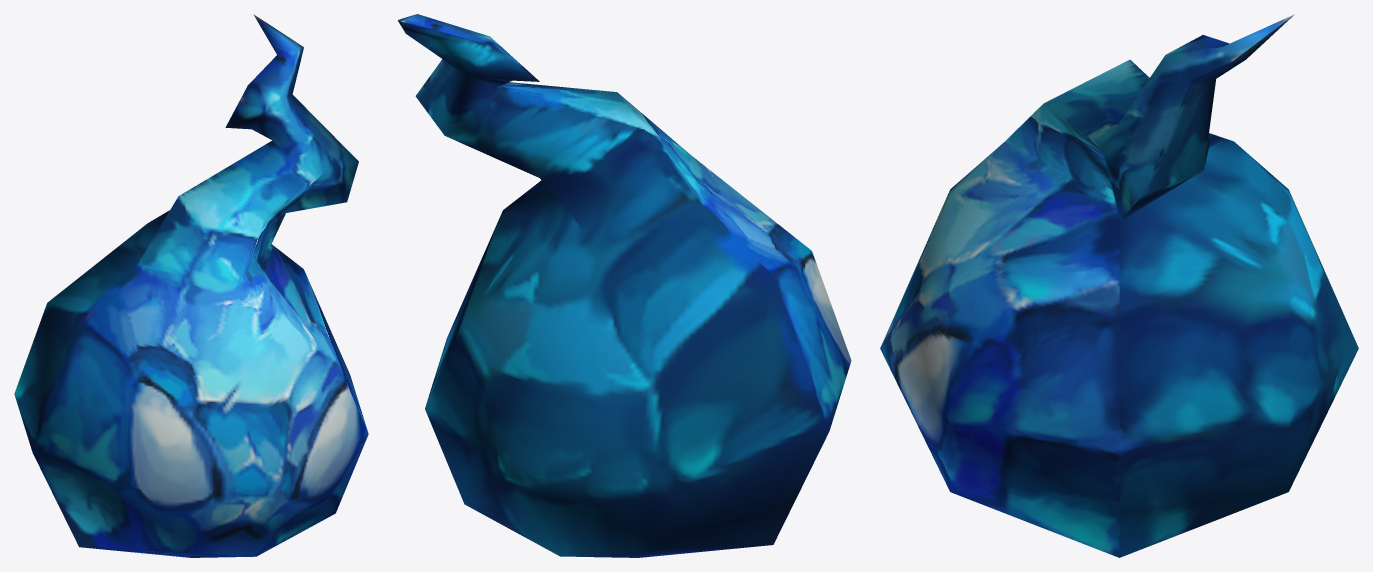
File: mojing.FBX
3 views of the same model, side by side, from view 1: azimuth 30°, elevation 25°; view 2: azimuth 150°, elevation 25°; view 3: azimuth 270°, elevation 25° (orthographic). The views are drawn at different scales.
Parts seen in each view (by area): view 1: mojing; view 2: mojing; view 3: mojing.
Part boxes in pixels (x1=…): mojing: x1=14, y1=14, x2=368, y2=557; mojing: x1=397, y1=14, x2=851, y2=557; mojing: x1=880, y1=14, x2=1358, y2=557.
Size of the model in its own units: 39.39 by 52.02 by 37.35.
